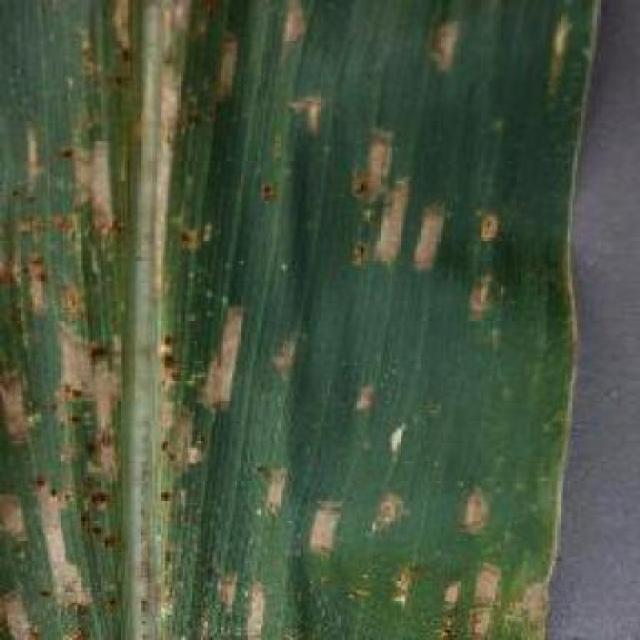Corn_Grey_Leaf_Spot: (3, 0, 574, 640)
